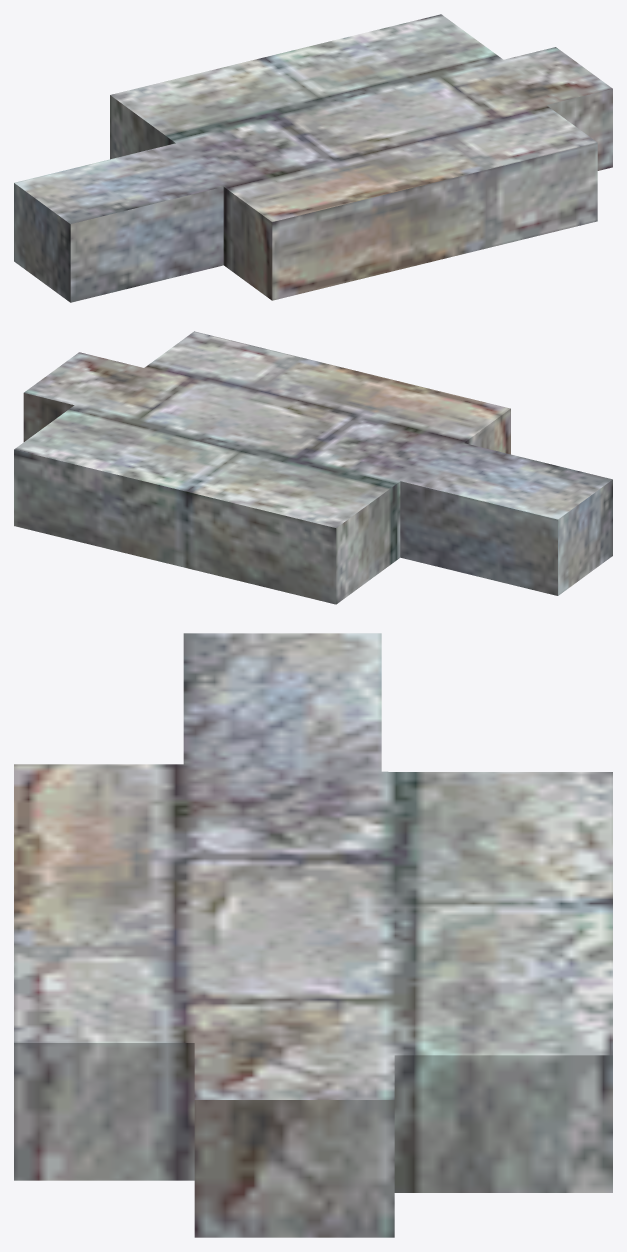
File: d_stone9.glb
3 renders of one model, top to bottom at view 1: azimuth 30°, elevation 25°; view 2: azimuth 150°, elevation 25°; view 3: azimuth 270°, elevation 25°, orthographic. The views are drawn at different scales.
Visible parts, largest first — view 1: d_stone9-col; view 2: d_stone9-col; view 3: d_stone9-col.
Boxes of the visible parts, x1,y1,x2,y2 form: d_stone9-col: [14, 14, 612, 302]; d_stone9-col: [14, 331, 612, 604]; d_stone9-col: [14, 633, 612, 1237].
Bounding box in the file's own units: 0.9078 × 0.125 × 0.4924.
1 material, 1 textured.
